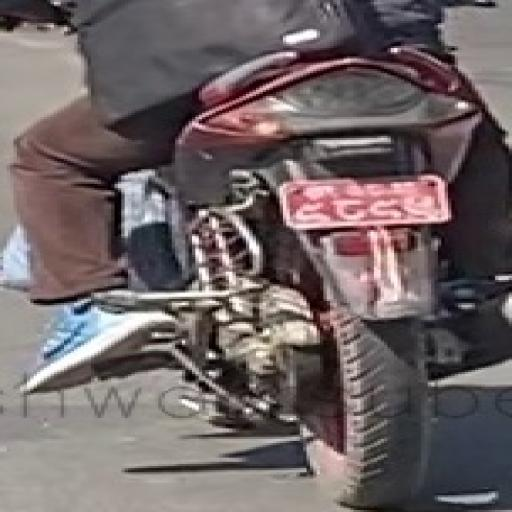license_plate: (272, 172, 463, 232)
